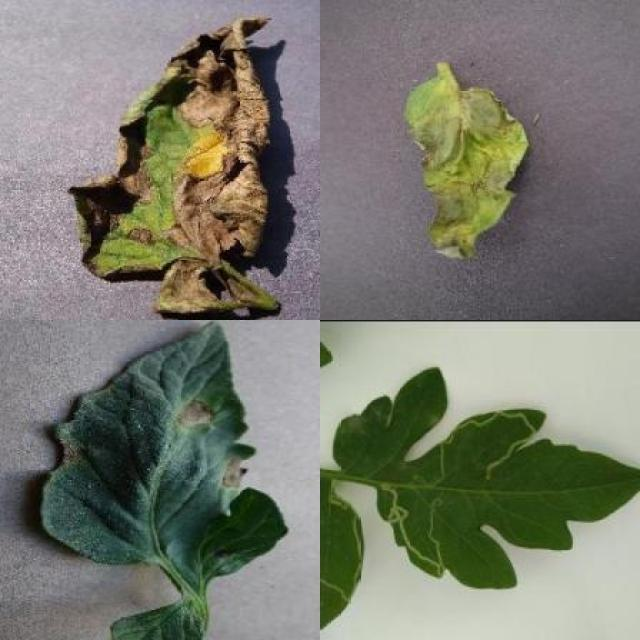Early Blight: (39, 320, 290, 583)
Late Blight: (66, 14, 271, 315), (404, 76, 530, 261)
Leaf Miner: (333, 363, 640, 588)
